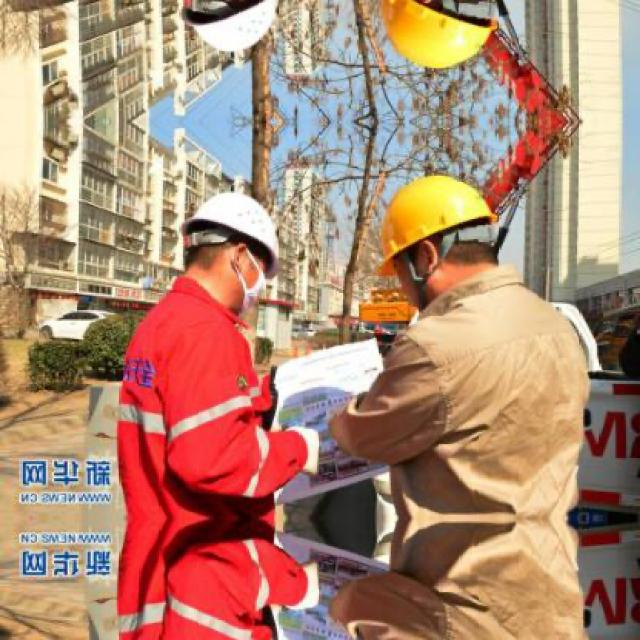helmet: (365, 160, 506, 312), (171, 180, 291, 308), (363, 0, 506, 85), (169, 0, 291, 65)
